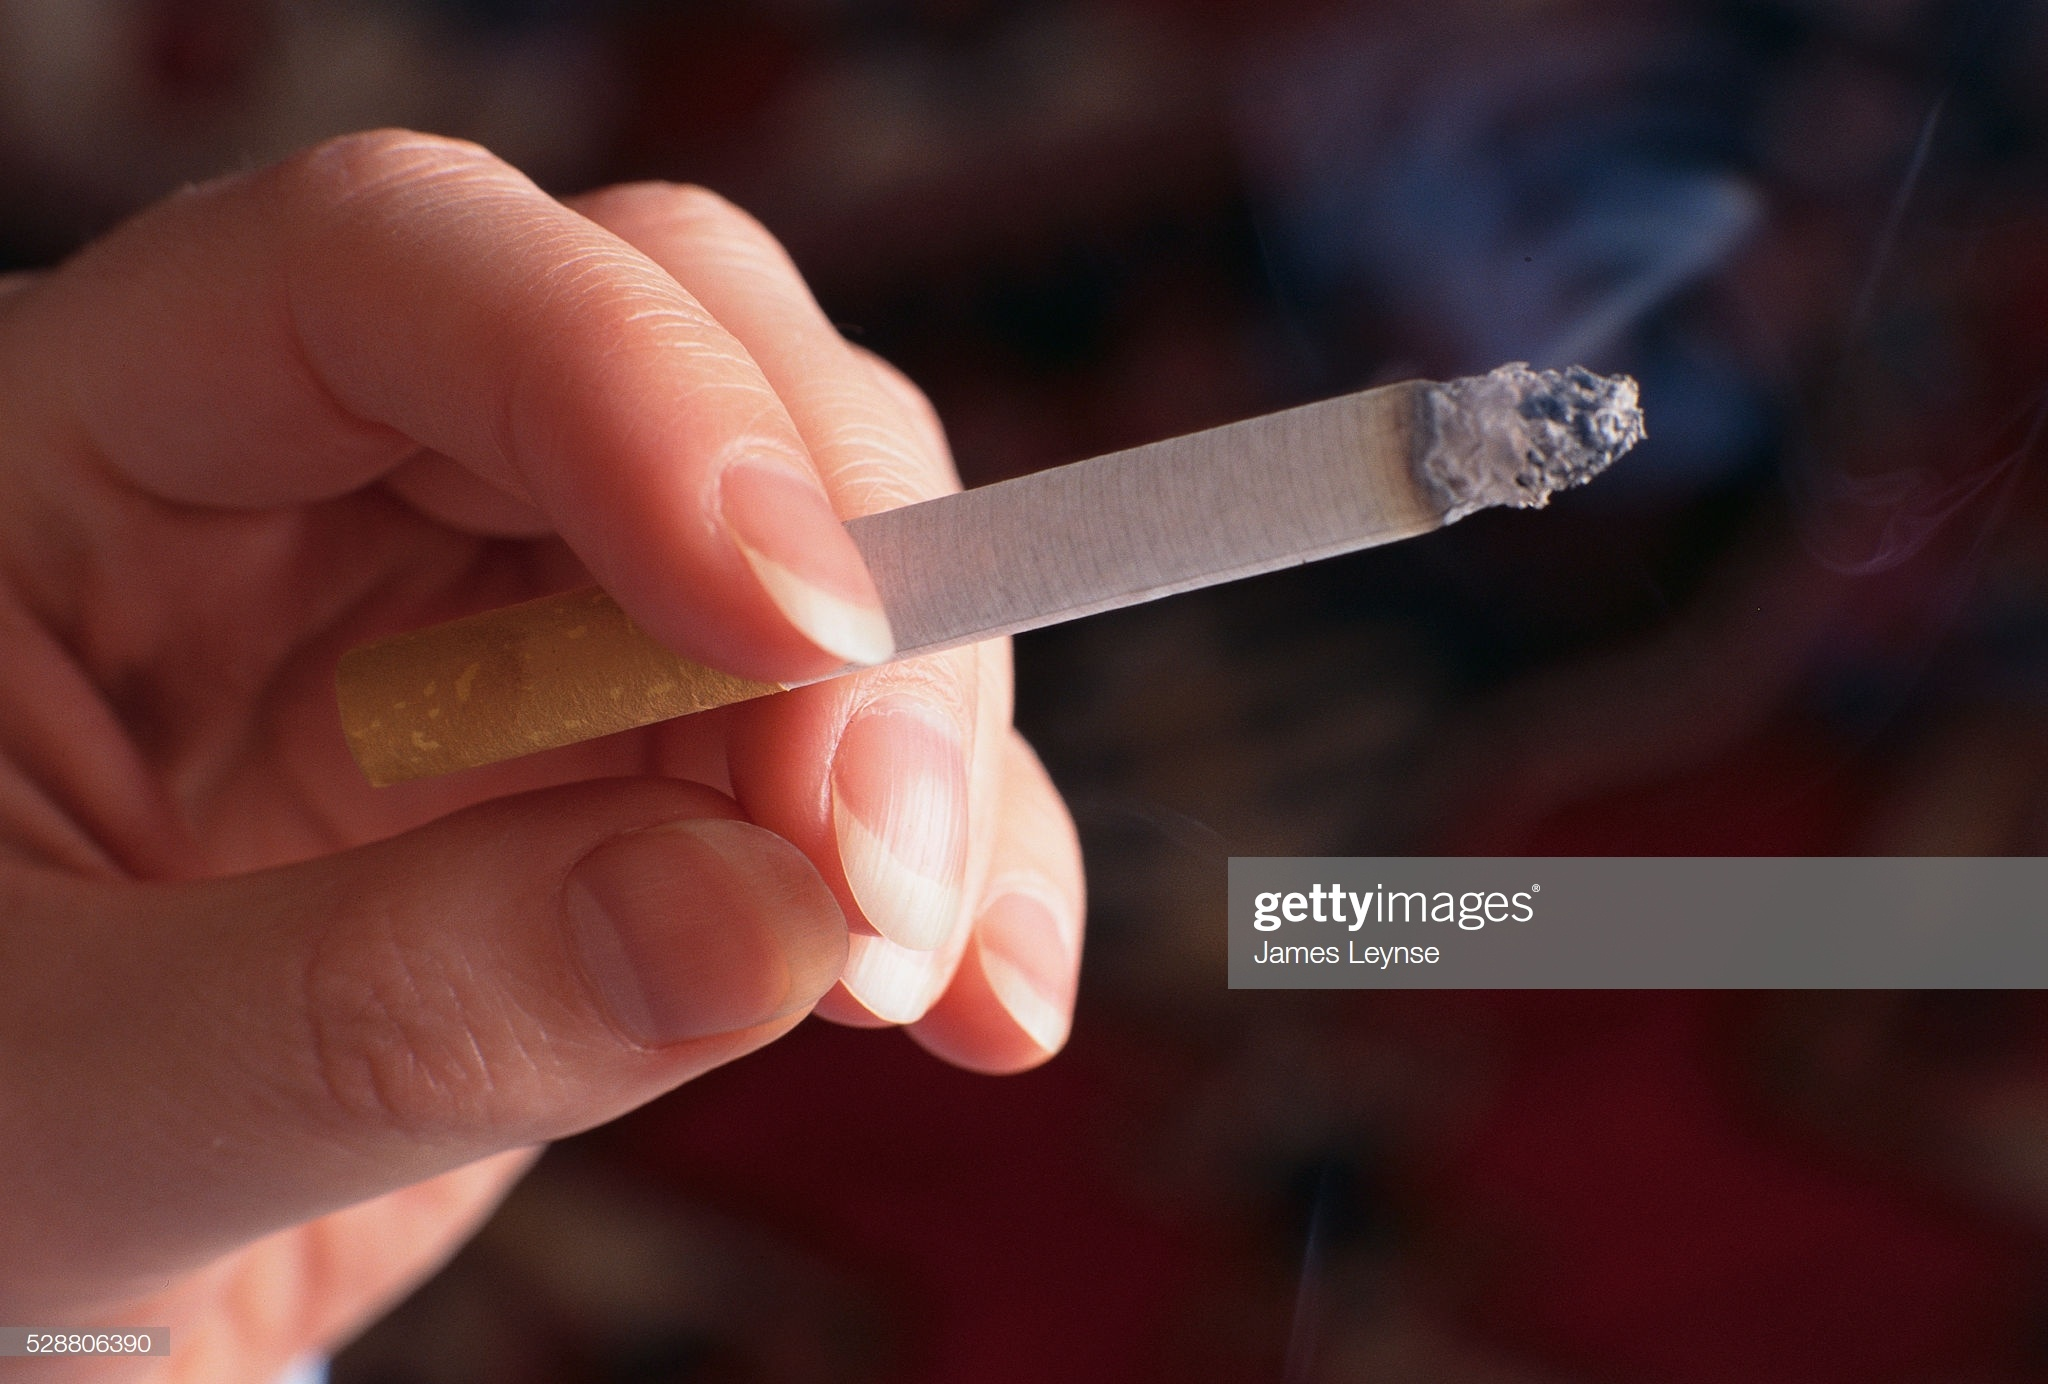sigaretta: (298, 385, 1595, 789)
